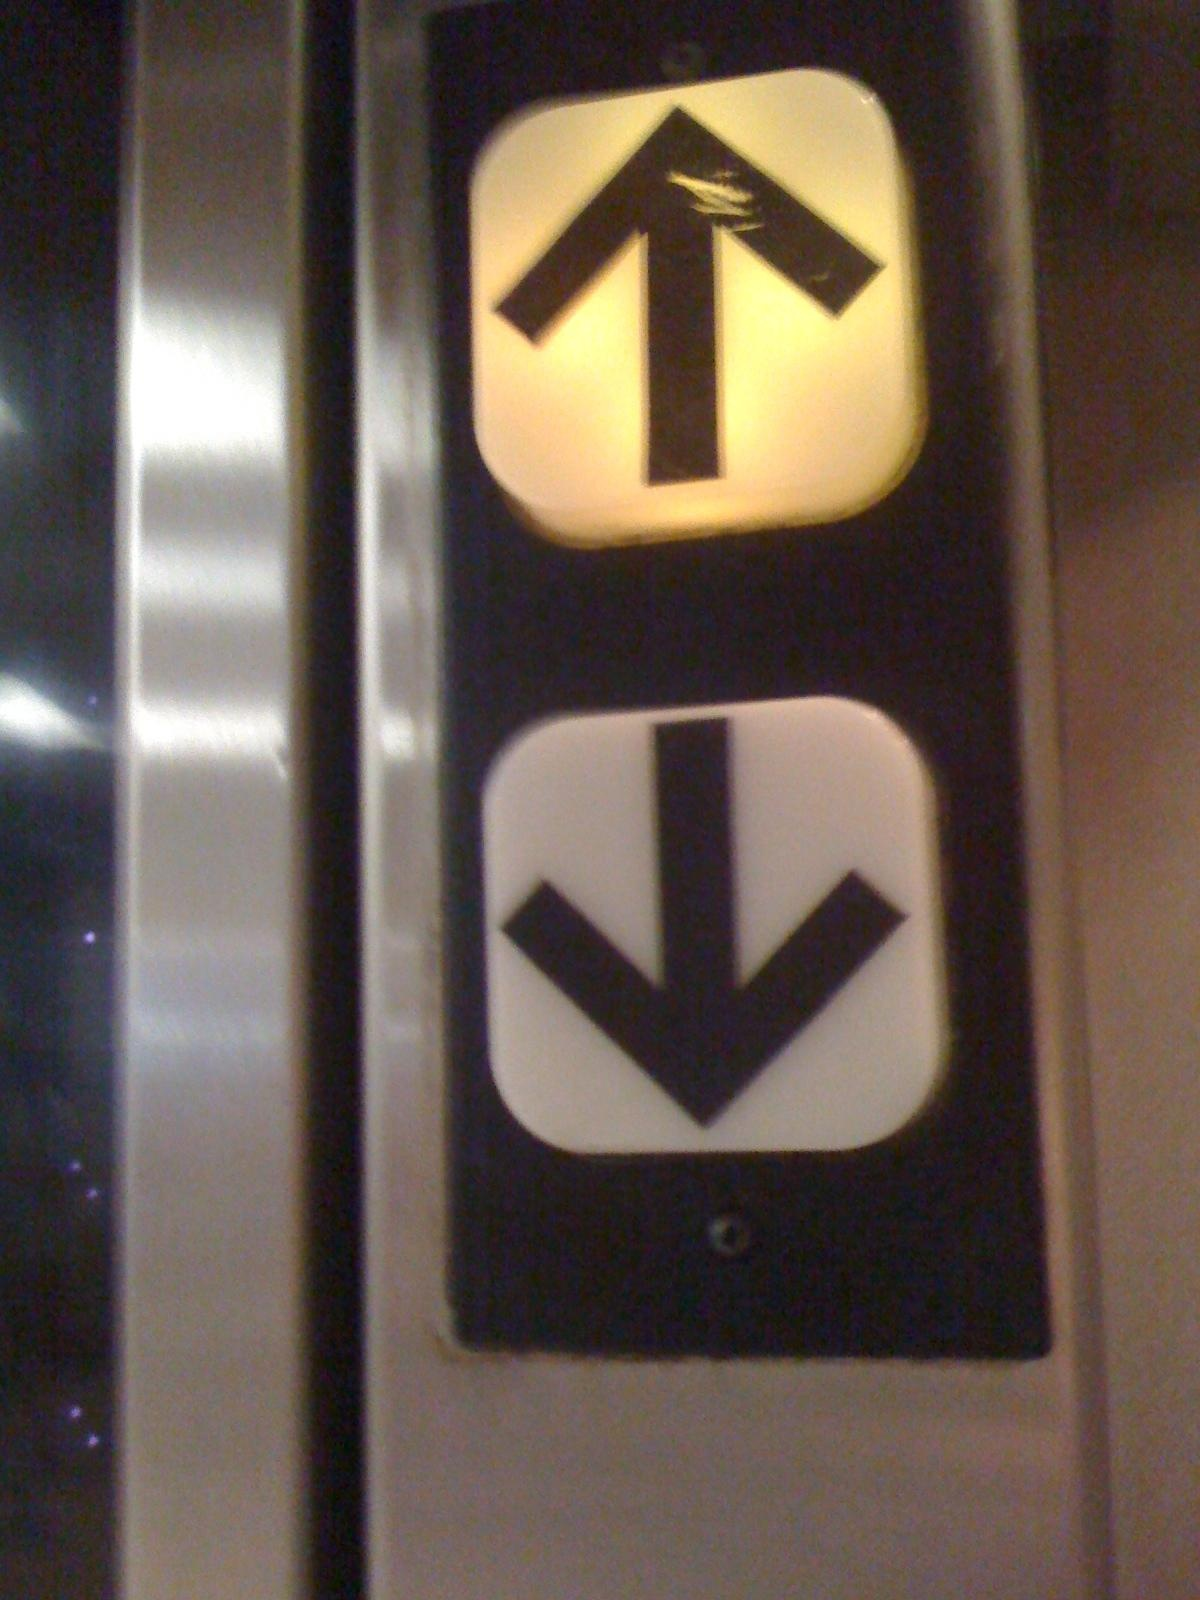down: (469, 694, 952, 1155)
up: (454, 69, 930, 552)
